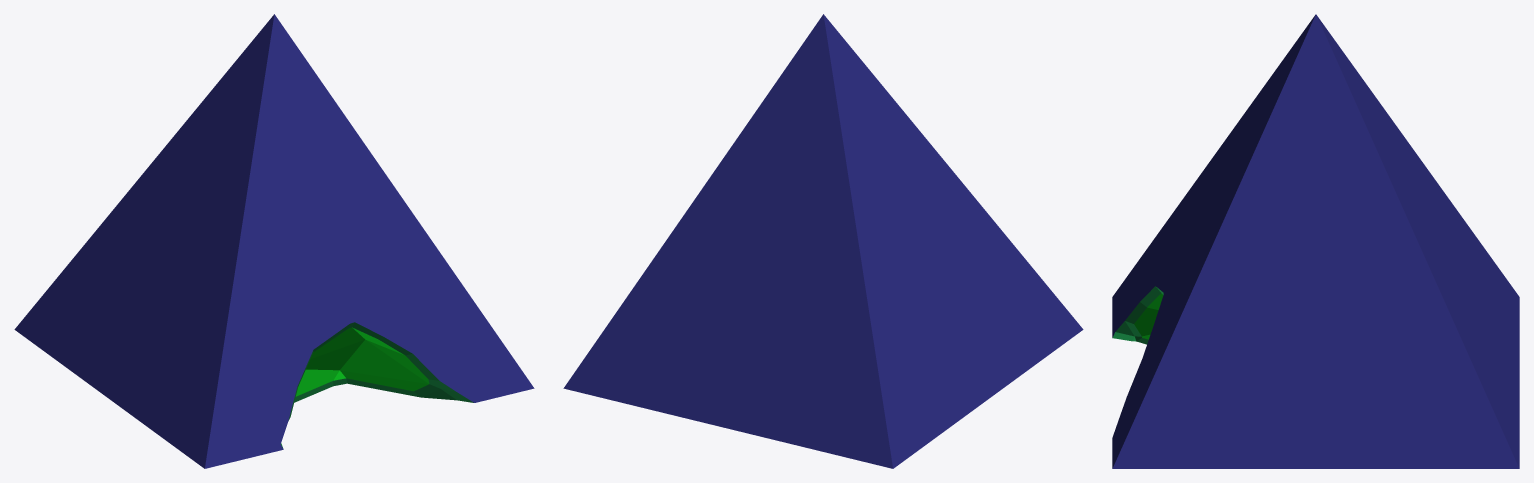
The model's file is DeformedPyramid.fbx.
3 views of the same model, side by side, from view 1: azimuth 30°, elevation 25°; view 2: azimuth 150°, elevation 25°; view 3: azimuth 270°, elevation 25° (orthographic). The views are drawn at different scales.
Visible parts, largest first — view 1: Cube; view 2: Cube; view 3: Cube.
Part boxes in pixels (bbox=[...]): Cube: bbox=[14, 14, 534, 468]; Cube: bbox=[563, 14, 1083, 468]; Cube: bbox=[1112, 14, 1519, 468].
Size of the model in its own units: 200 by 200 by 200.
